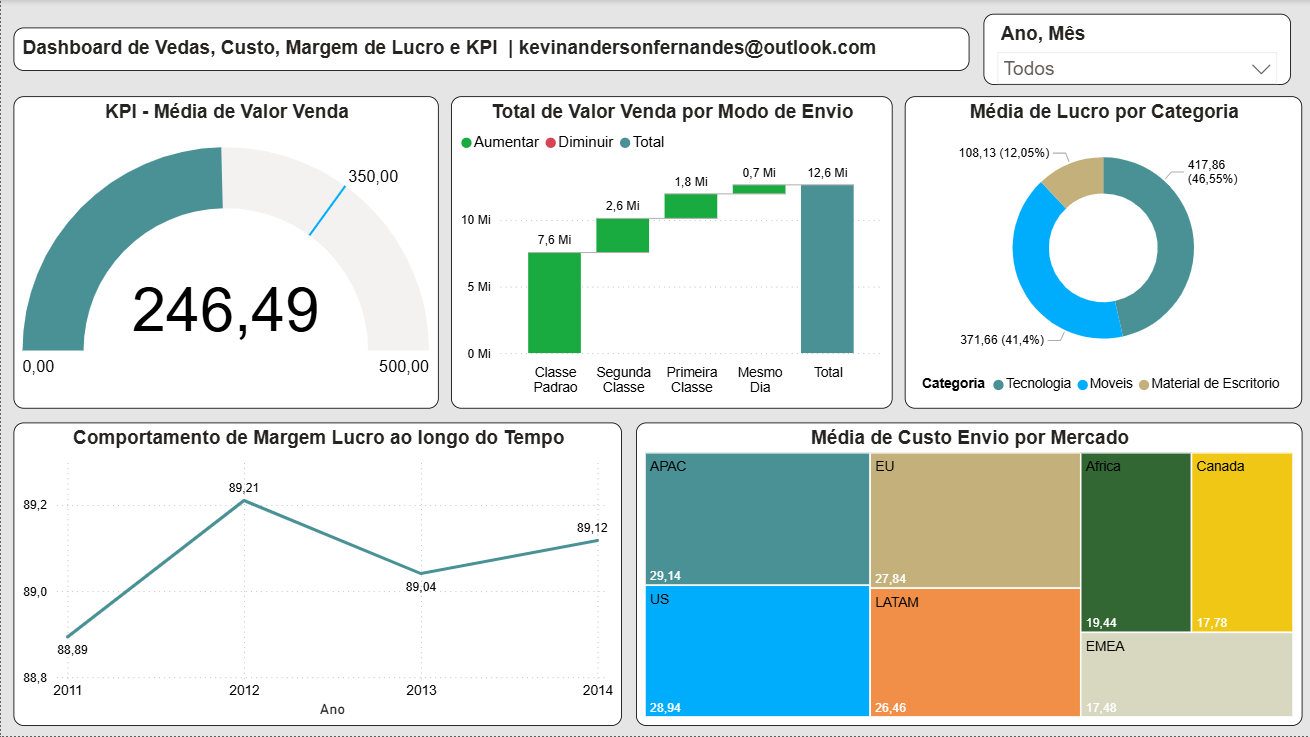

The dashboard page shown, as its layout file describes it:
{"tool":"powerbi","page":{"name":"Página 1","canvas":[1280,720],"ordinal":0},"visuals":[{"type":"waterfallChart","title":"Total de Valor Venda por Modo de Envio","fields":{"Category":["Pedidos.Modo Envio"],"Y":["Sum(Vendas.Valor Venda)"]},"box":[440.2,94.2,431.7,305.7],"z":0},{"type":"treemap","fields":{"Group":["Clientes.Mercado"],"Values":["Avg(Vendas.Custo Envio)"]},"box":[621.2,413.3,651.8,297.1],"z":1000},{"type":"gauge","title":"KPI - Média de Valor Venda","fields":{"Y":["Avg(Vendas.Valor Venda)"]},"box":[12.2,94.2,415.8,305.7],"z":2000},{"type":"slicer","fields":{"Values":["Pedidos.Data Pedido.Variation.Hierarquia de datas.Ano","Pedidos.Data Pedido.Variation.Hierarquia de datas.Mês"]},"box":[961.1,13.5,300.8,69.7],"z":3000},{"type":"donutChart","fields":{"Category":["Produtos.Categoria"],"Y":["Avg(Vendas.Lucro)"]},"box":[884.1,94.2,388.9,305.7],"z":4000},{"type":"lineChart","title":"Comportamento de Margem Lucro ao longo do Tempo","fields":{"Category":["Pedidos.Data Pedido.Variation.Hierarquia de datas.Ano","Pedidos.Data Pedido.Variation.Hierarquia de datas.Trimestre","Pedidos.Data Pedido.Variation.Hierarquia de datas.Mês","Pedidos.Data Pedido.Variation.Hierarquia de datas.Dia"],"Y":["Avg(Vendas.Margem Lucro)"]},"box":[12.2,413.3,595.5,297.1],"z":5000},{"type":"textbox","box":[12.2,26.9,935.5,42.8],"z":6000}]}

Visuals, with their boxes in screenshot pixels (x1, y1, x2, y2), scaled from the page's 1280x720 canvas onto the 1310x737 screenshot:
"Total de Valor Venda por Modo de Envio" waterfallChart: locate(451, 96, 892, 409)
treemap - Clientes.Mercado x Avg(Vendas.Custo Envio): locate(636, 423, 1303, 727)
"KPI - Média de Valor Venda" gauge: locate(12, 96, 438, 409)
slicer - Pedidos.Data Pedido.Variation.Hierarquia de datas.Ano x Pedidos.Data Pedido.Variation.Hierarquia de datas.Mês: locate(984, 14, 1291, 85)
donutChart - Produtos.Categoria x Avg(Vendas.Lucro): locate(905, 96, 1303, 409)
"Comportamento de Margem Lucro ao longo do Tempo" lineChart: locate(12, 423, 622, 727)
textbox: locate(12, 28, 970, 71)
